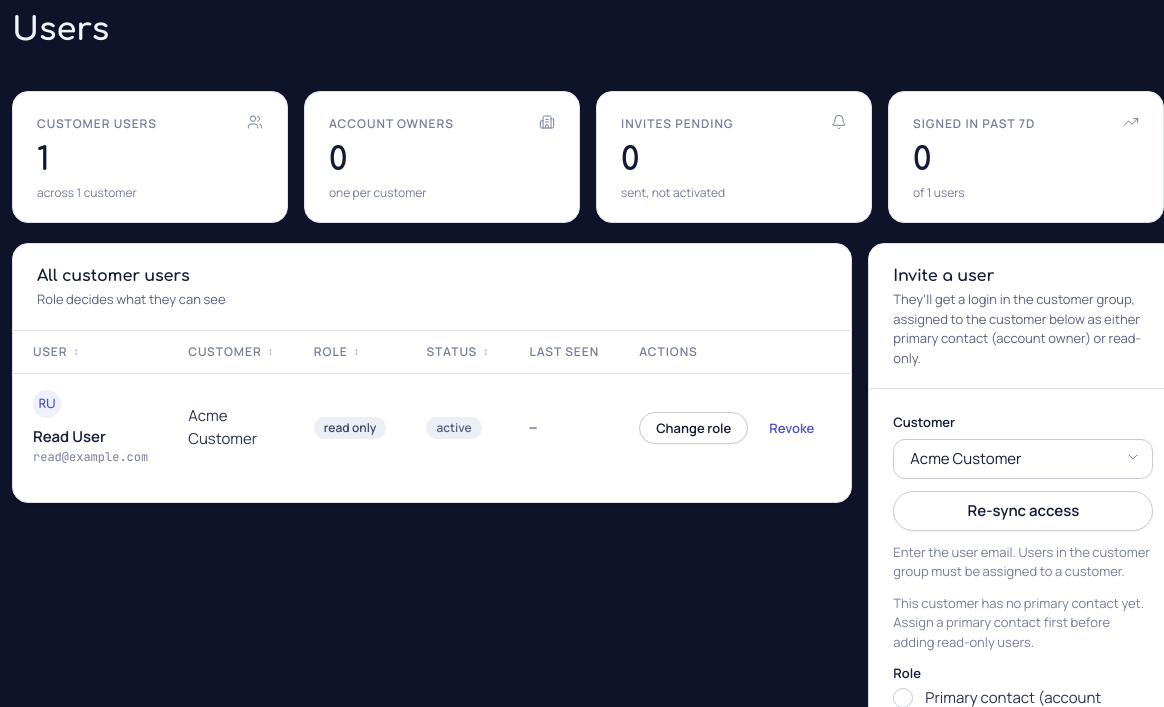
Test case: UsersAdminPage customer access actions › re-syncs the selected customer until complete, showing how many records are done
This screenshot has width=1164, height=707.
Click the button "Re-sync access" at (1023, 511), box [893, 491, 1153, 531]
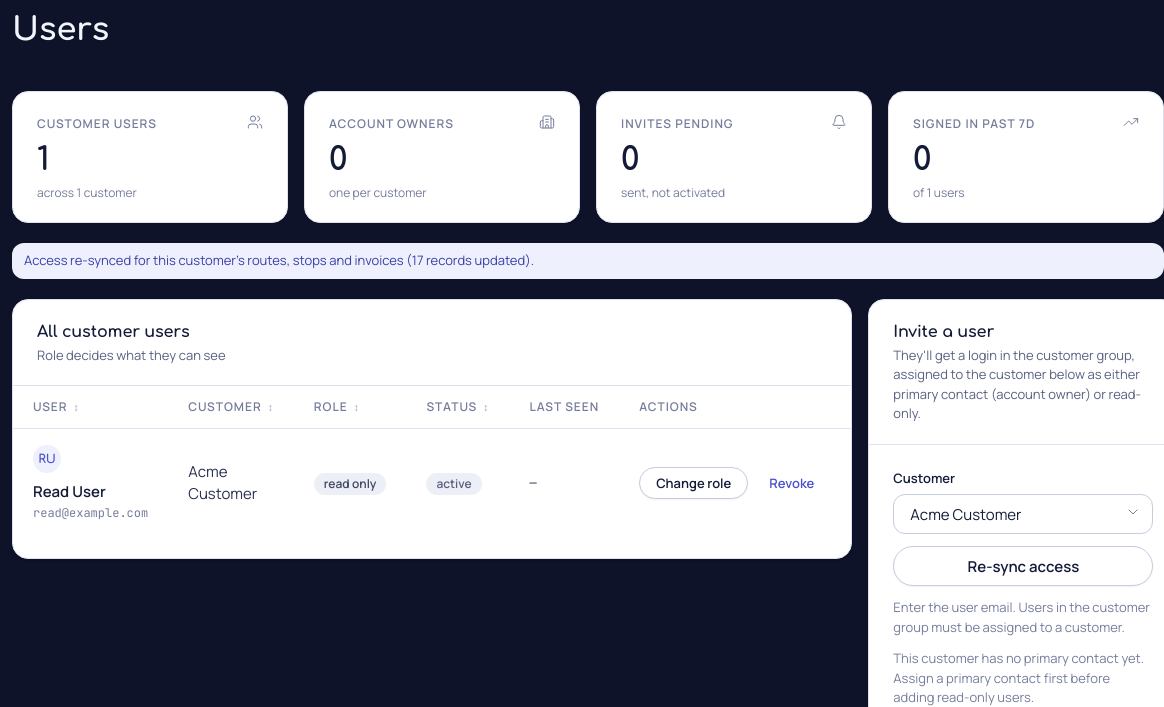
Expected: the text "17 records" is shown, [24, 251, 534, 269]
